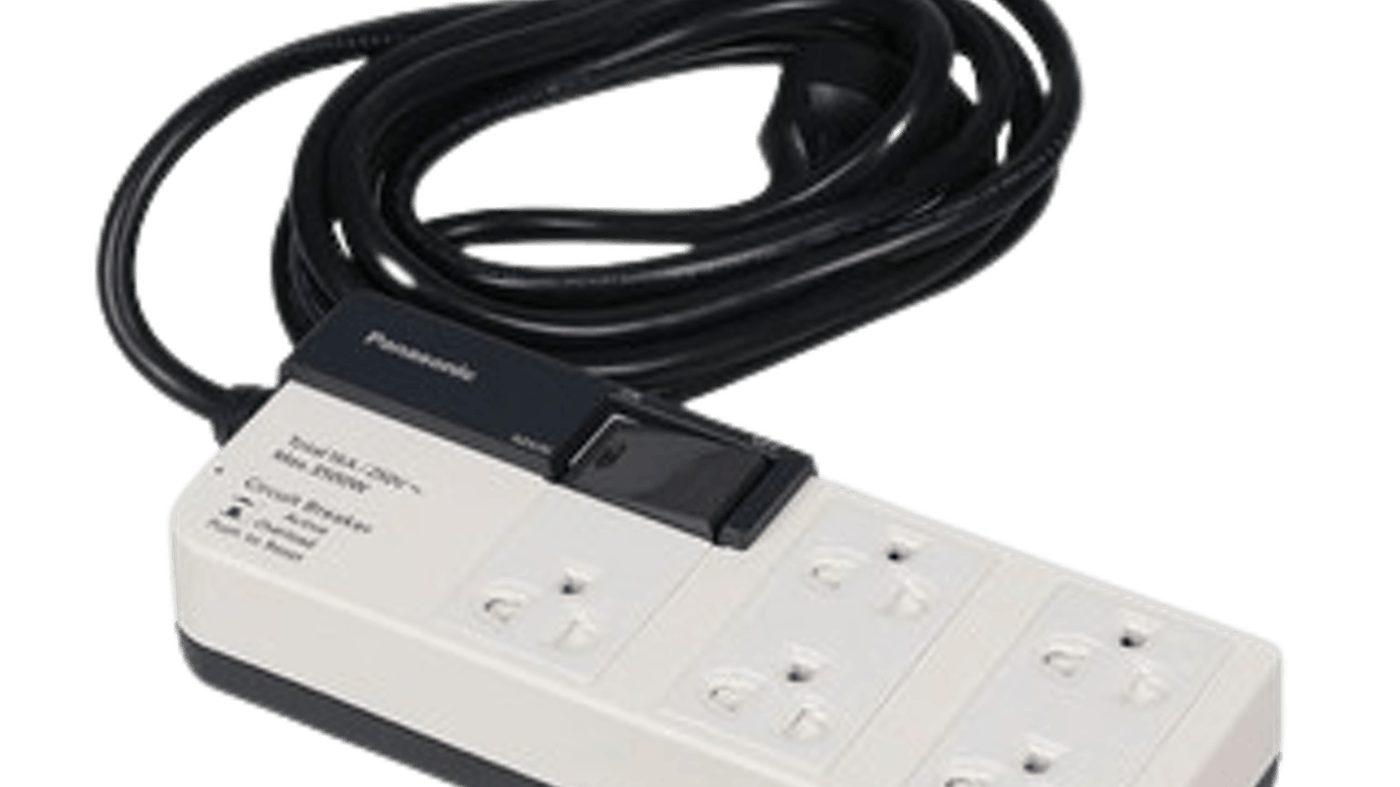Three_eye_plug: (151, 264, 1302, 787)
